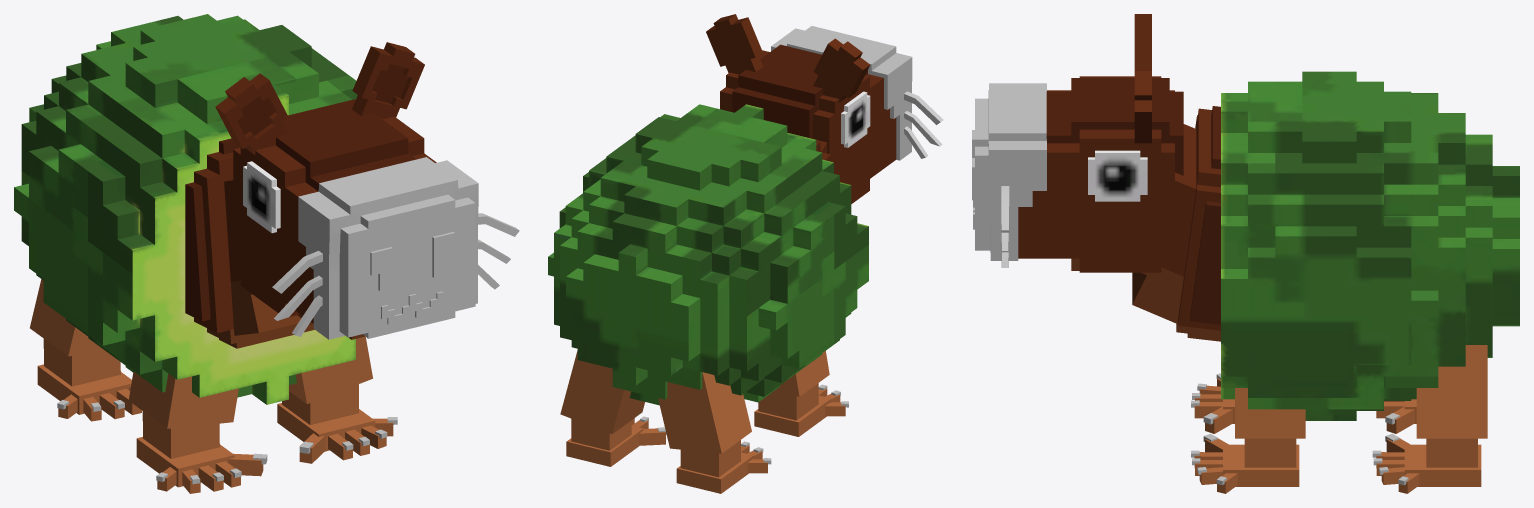
Rendered from Pat 4.obj.
The picture shows the model from 3 angles, left to right: view 1: azimuth 30°, elevation 25°; view 2: azimuth 150°, elevation 25°; view 3: azimuth 270°, elevation 25°; orthographic projection. The views are drawn at different scales.
Visible parts, largest first — view 1: Sphere1, Cube0111, Cube0021, Cube0071, Cube0121, Cube0061, Cube0011, Cube0051; view 2: Sphere1, Cube0111, Cube0071, Cube0121, Cube0021, Cube0061; view 3: Sphere1, Cube0071, Cube0111, Cube0121, Cube0021, Cube0011, Cube0061.
Boxes of the visible parts, x1,y1,x2,y2 form: Sphere1: [14, 14, 357, 404]; Cube0111: [30, 279, 393, 493]; Cube0021: [298, 157, 478, 339]; Cube0071: [194, 42, 436, 333]; Cube0121: [185, 64, 416, 321]; Cube0061: [57, 213, 519, 484]; Cube0011: [207, 280, 364, 348]; Cube0051: [370, 232, 454, 324]; Sphere1: [548, 91, 870, 405]; Cube0111: [560, 350, 845, 493]; Cube0071: [706, 14, 896, 203]; Cube0121: [732, 44, 867, 173]; Cube0021: [771, 26, 912, 160]; Cube0061: [634, 91, 943, 464]; Sphere1: [1088, 71, 1519, 420]; Cube0071: [1018, 14, 1220, 330]; Cube0111: [1194, 345, 1487, 493]; Cube0121: [1046, 78, 1220, 324]; Cube0021: [975, 83, 1046, 260]; Cube0011: [1071, 258, 1220, 341]; Cube0061: [1001, 186, 1408, 485].
Bounding box in the file's own units: 4.1 × 5.83 × 7.29.
